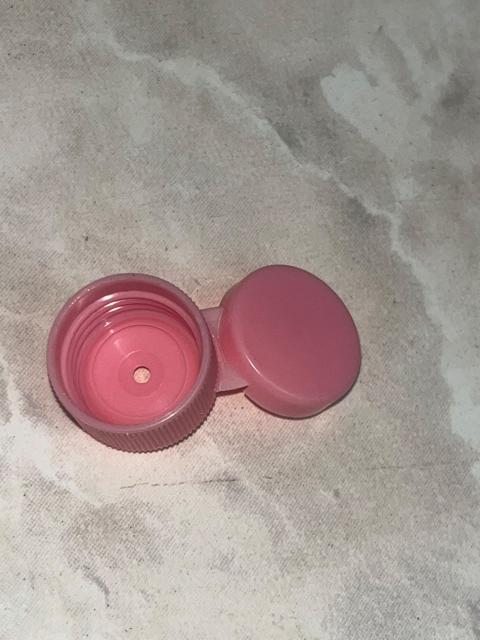HDPE: (20, 232, 400, 478)
